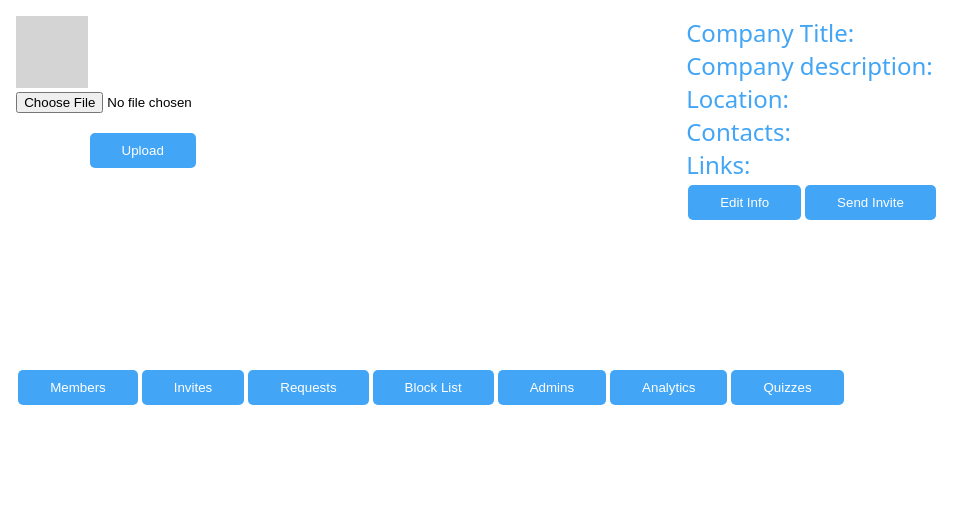
Test case: CompanyContainer › renders CompanyProfileMembers when "Members" button is clicked
The image size is (962, 526).
Click the button "Members" at x=78, y=388, box [18,370,138,405]
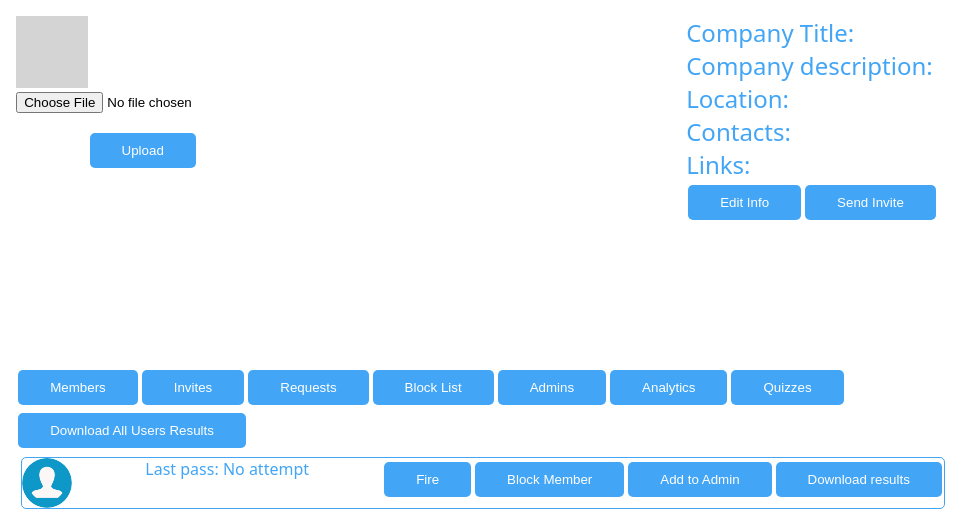
Check: the element with test id "company-profile-members" is shown, box [16,409,938,509]
